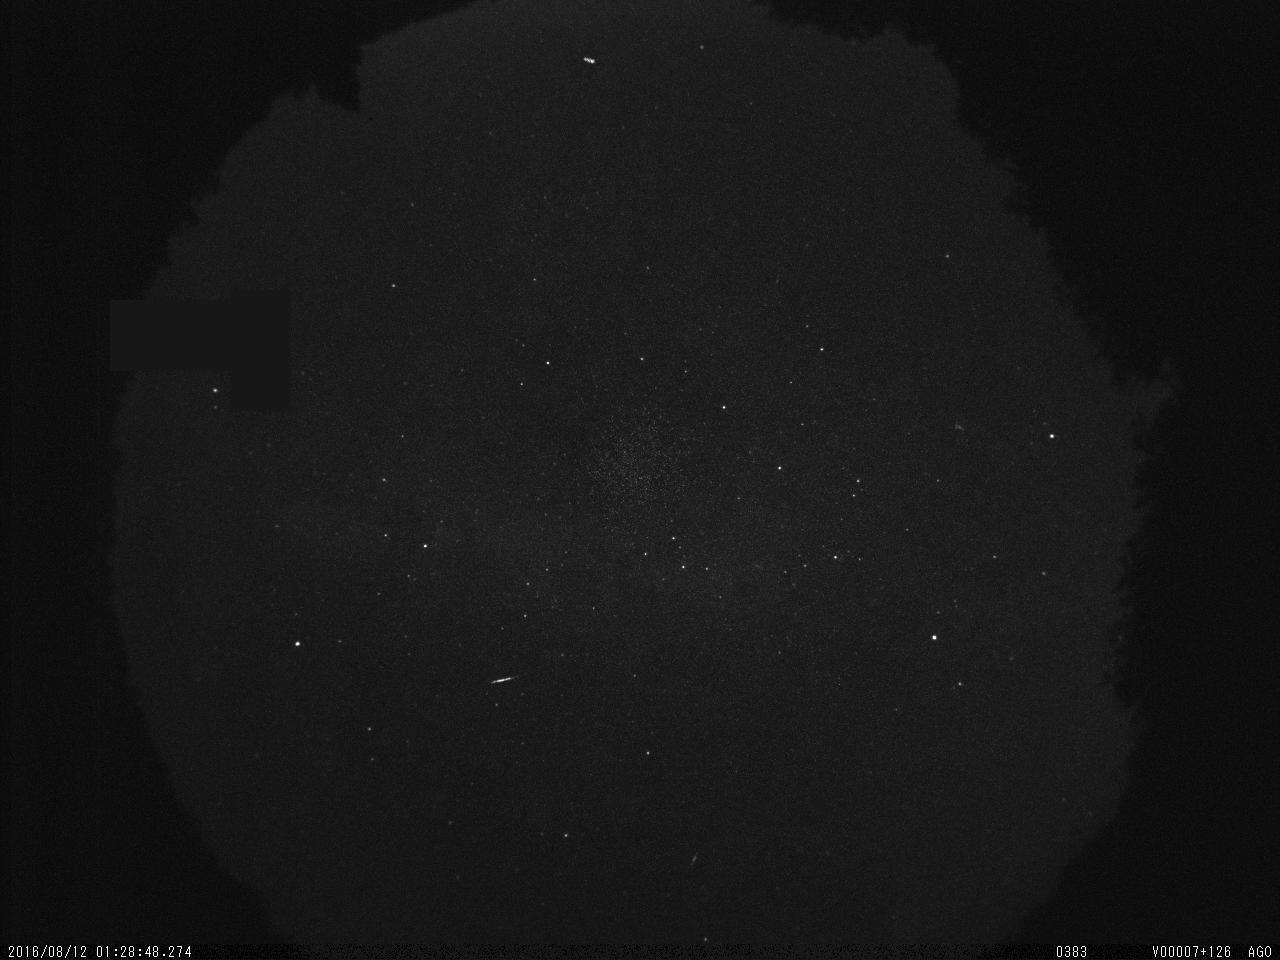meteor: (482, 660, 536, 698)
